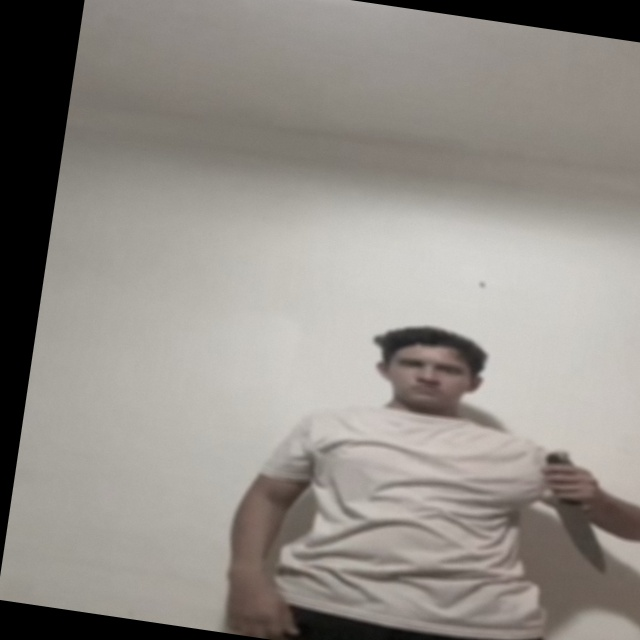Sharp-Object: (542, 500, 620, 570)
